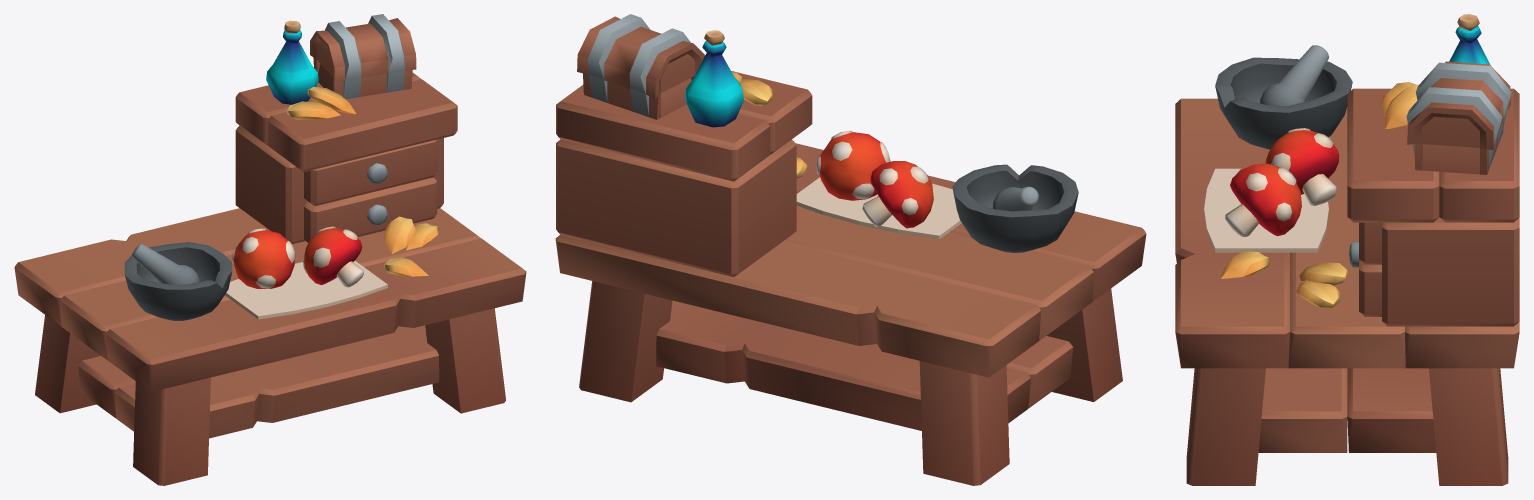
File: Potionstation_decorated.obj
3 views of the same model, side by side, from view 1: azimuth 30°, elevation 25°; view 2: azimuth 150°, elevation 25°; view 3: azimuth 270°, elevation 25° (orthographic). The views are drawn at different scales.
Parts seen in each view (by area): view 1: Potionstation_decorated; view 2: Potionstation_decorated; view 3: Potionstation_decorated.
Boxes of the visible parts, x1,y1,x2,y2 form: Potionstation_decorated: (14,14,526,485); Potionstation_decorated: (555,14,1146,485); Potionstation_decorated: (1175,14,1519,485).
Size of the model in its own units: 2.4 by 1.94 by 1.5.
1 material, 1 textured.
